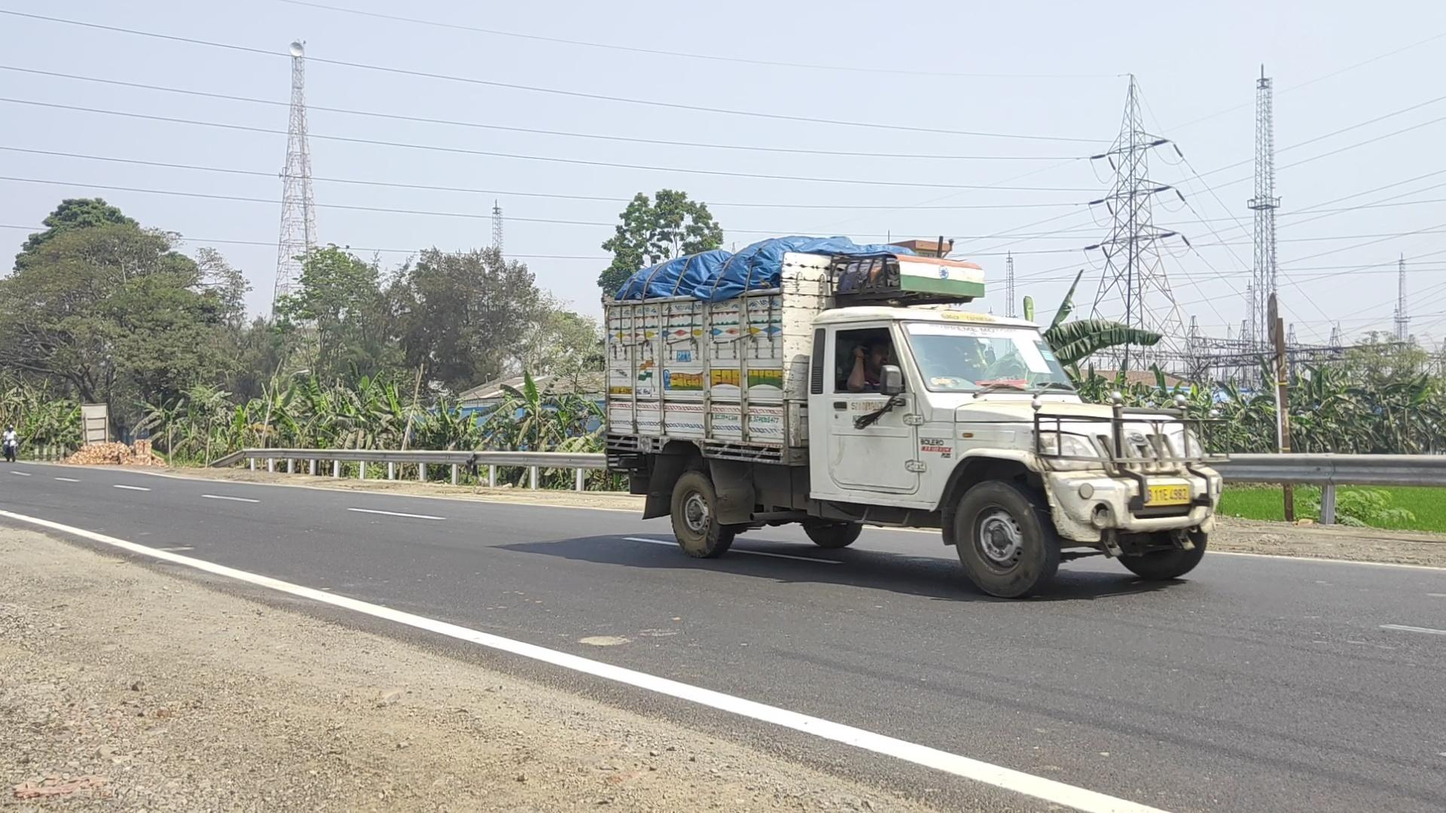bike: (2, 425, 20, 463)
van: (603, 235, 1219, 600)
